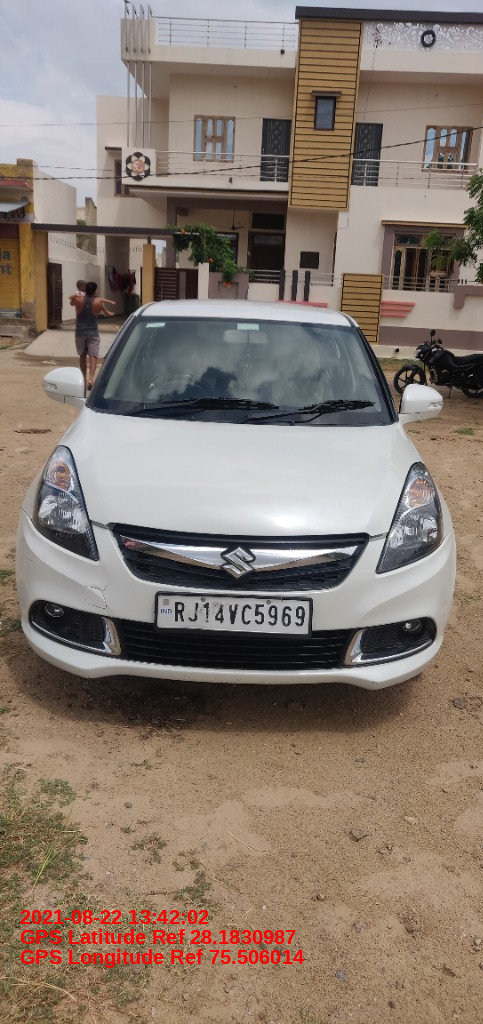Scratched: (20, 552, 34, 565), (100, 581, 112, 594), (368, 677, 380, 686)
